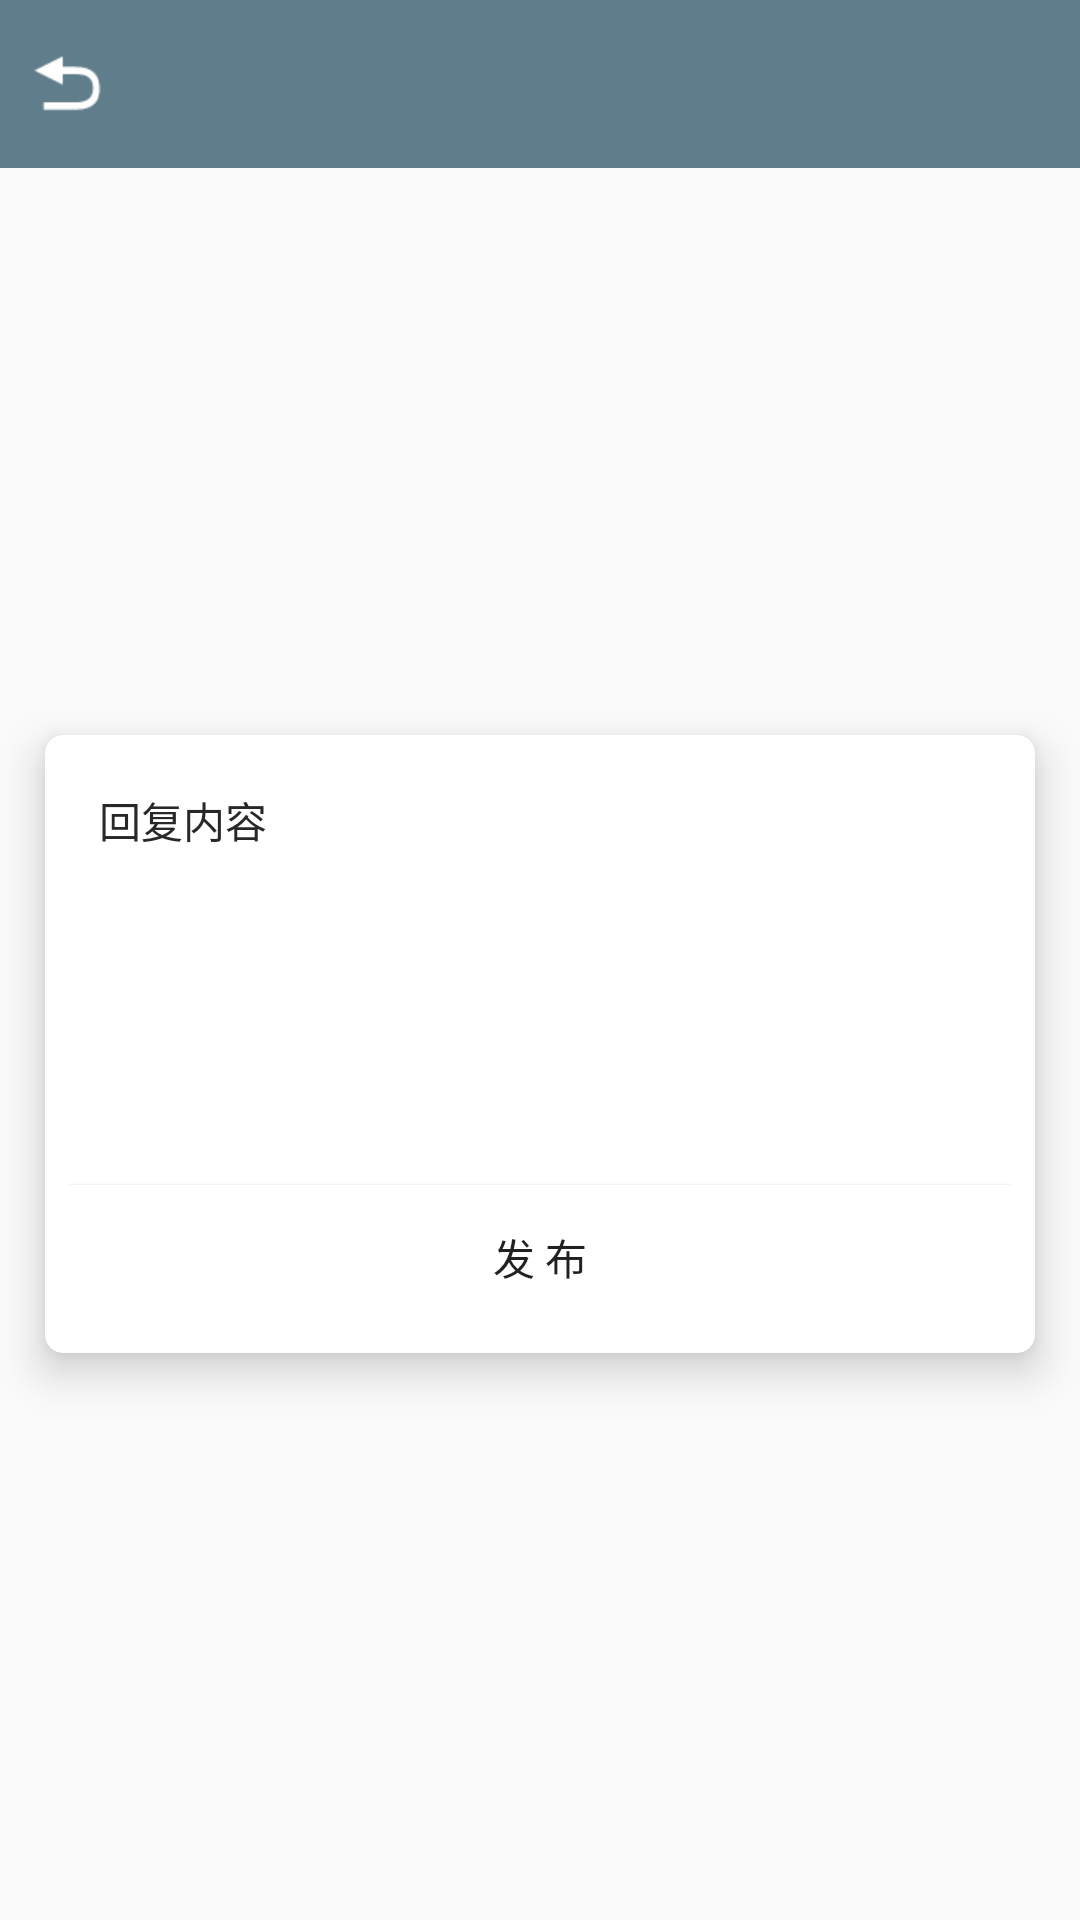

Screen size 1080×1920. Icon name, then its center in pixels as (x=x, y=y):
back: (x=67, y=83)
